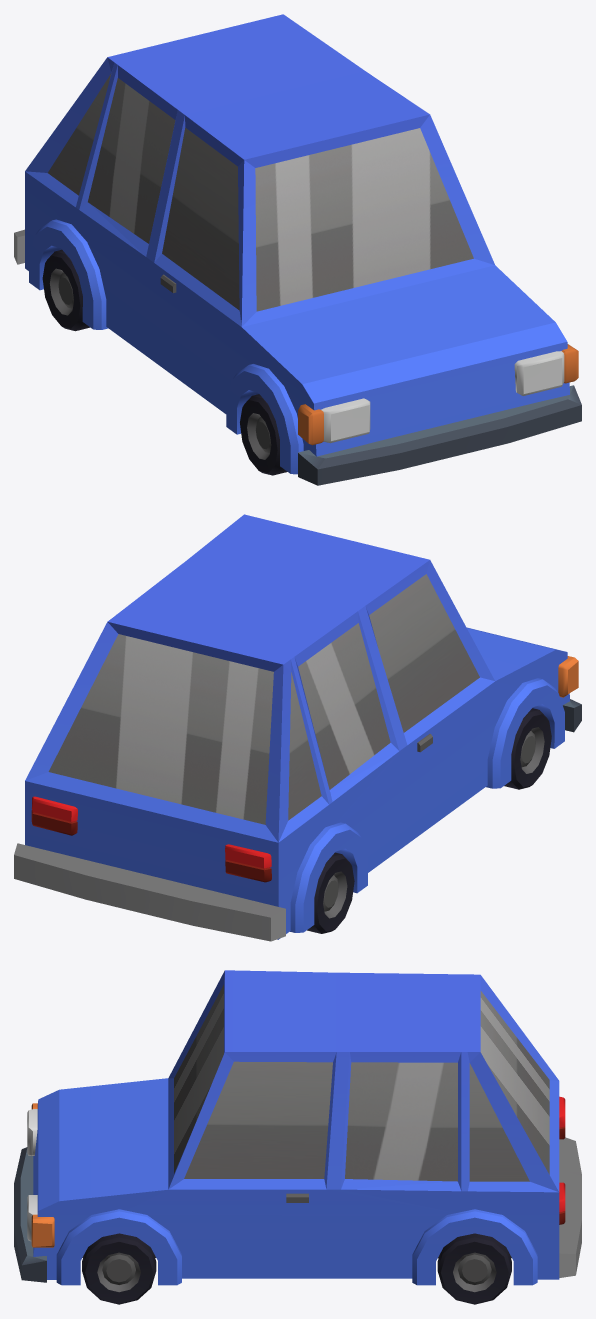
File: Car_1_13.fbx
3 views of the same model, one above another, from view 1: azimuth 30°, elevation 25°; view 2: azimuth 150°, elevation 25°; view 3: azimuth 270°, elevation 25° (orthographic). The views are drawn at different scales.
Parts seen in each view (by area): view 1: Car_1_13, Wheel_Br, Wheel_Fr; view 2: Car_1_13, Wheel_Fr, Wheel_Br; view 3: Car_1_13, Wheel_Fl, Wheel_Bl.
Boxes of the visible parts, box(x1,y1,x2,y2) form: Car_1_13: box(14, 14, 581, 485); Wheel_Br: box(42, 249, 89, 331); Wheel_Fr: box(240, 394, 287, 475); Car_1_13: box(14, 514, 581, 941); Wheel_Fr: box(504, 708, 551, 789); Wheel_Br: box(307, 852, 354, 933); Car_1_13: box(14, 970, 581, 1285); Wheel_Fl: box(82, 1233, 156, 1304); Wheel_Bl: box(437, 1233, 511, 1304).
Size of the model in its own units: 105 by 94.33 by 207.
